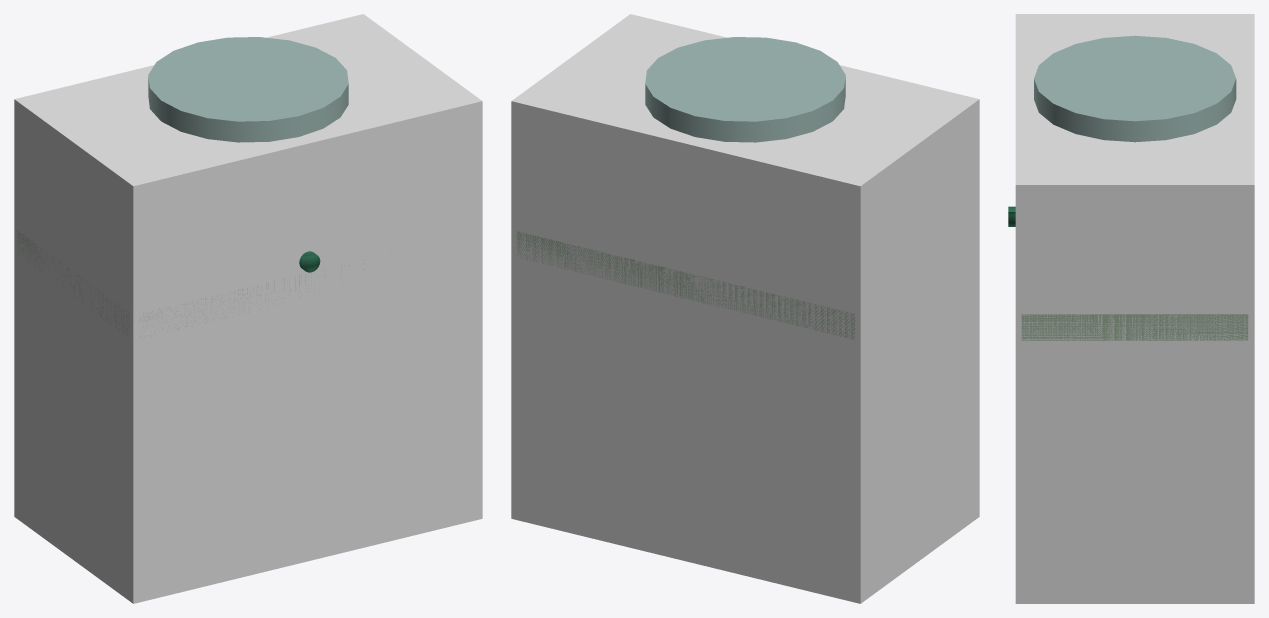
File: hydration-station_retail.glb
3 views of the same model, side by side, from view 1: azimuth 30°, elevation 25°; view 2: azimuth 150°, elevation 25°; view 3: azimuth 270°, elevation 25° (orthographic).
Parts seen in each view (by area): view 1: COL_hydration-station, MESH_Reservoir, MESH_Countertop; view 2: COL_hydration-station, MESH_Reservoir, MESH_Countertop; view 3: COL_hydration-station, MESH_Reservoir, MESH_Countertop.
Boxes of the visible parts, bbox=[...] form: COL_hydration-station: bbox=[14, 14, 482, 603]; MESH_Reservoir: bbox=[148, 37, 348, 142]; MESH_Countertop: bbox=[17, 230, 471, 338]; COL_hydration-station: bbox=[511, 14, 979, 603]; MESH_Reservoir: bbox=[645, 37, 845, 142]; MESH_Countertop: bbox=[516, 231, 855, 339]; COL_hydration-station: bbox=[1015, 14, 1254, 603]; MESH_Reservoir: bbox=[1034, 35, 1236, 142]; MESH_Countertop: bbox=[1021, 314, 1248, 340].
Bounding box in the file's own units: 1.05 × 1.26 × 0.6386.
